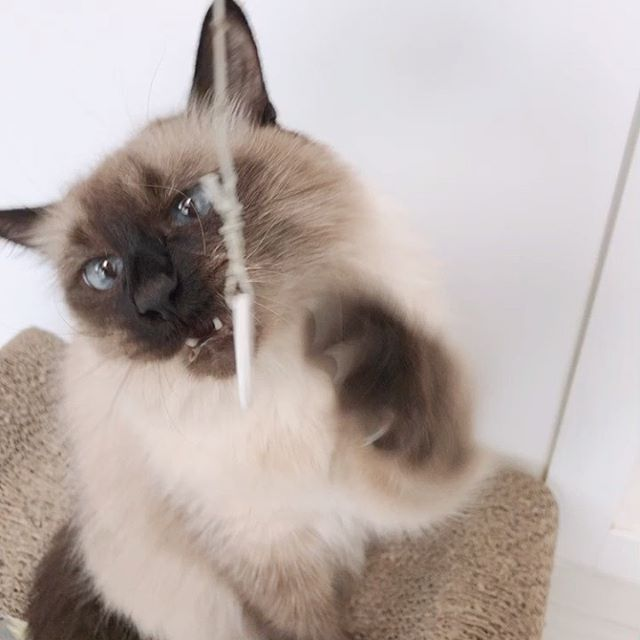cat: (9, 1, 315, 409)
